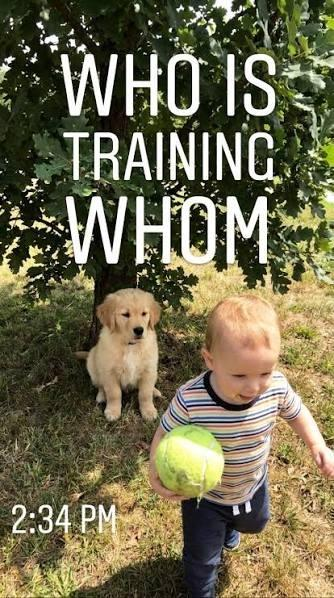non-dog: (143, 291, 334, 598)
puppy-dog: (68, 288, 163, 422)
